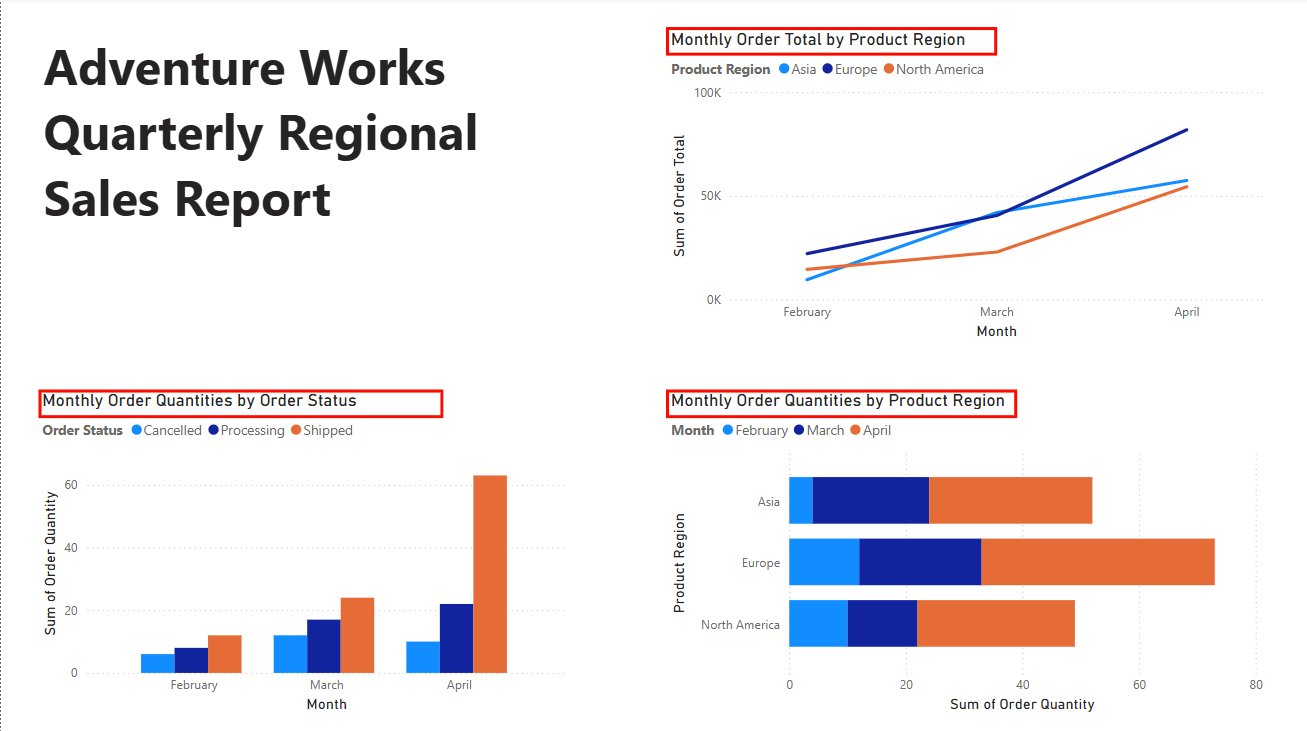

What the dashboard file says about the page in this screenshot:
{"tool":"powerbi","page":{"name":"Page 1","canvas":[1280,720],"ordinal":0},"visuals":[{"type":"barChart","title":"Monthly Order Quantities by Product Region","fields":{"Category":["Sales.Product Region"],"Y":["Sum(Sales.Order Quantity)"],"Series":["Sales.Order Date.Variation.Date Hierarchy.Month"]},"box":[650,384,589,321],"z":3000},{"type":"clusteredColumnChart","title":"Monthly Order Quantities by Order Status","fields":{"Category":["Sales.Month"],"Y":["Sum(Sales.Order Quantity)"],"Series":["Sales.Order Status"]},"box":[36,384,522,321],"z":3125},{"type":"lineChart","title":"Monthly Order Total by Product Region","fields":{"Category":["Sales.Month"],"Y":["Sum(Sales.Order Total)"],"Series":["Sales.Product Region"]},"box":[650,30,589,309],"z":3250},{"type":"textbox","box":[36.2,29.8,522.2,309.5],"z":3500}]}

Visuals, with their boxes in screenshot pixels (x1, y1, x2, y2), scaled from the page's 1280x720 canvas onto the 1307x731 screenshot:
"Monthly Order Quantities by Product Region" barChart: detection(664, 390, 1265, 716)
"Monthly Order Quantities by Order Status" clusteredColumnChart: detection(37, 390, 570, 716)
"Monthly Order Total by Product Region" lineChart: detection(664, 30, 1265, 344)
textbox: detection(37, 30, 570, 344)
